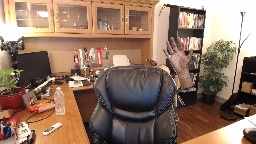Mano_aperta: (161, 36, 194, 71)
